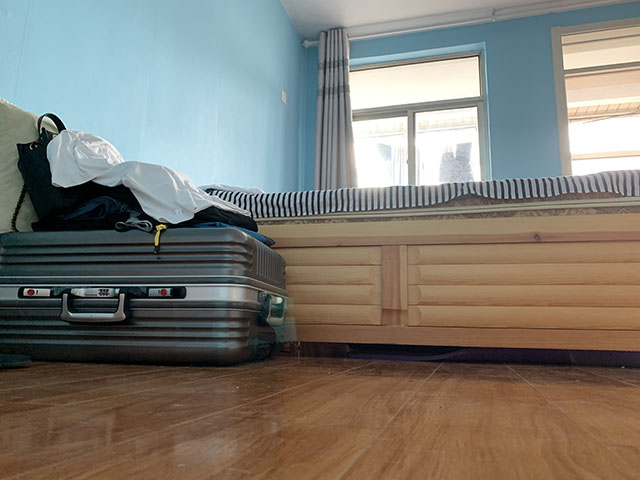bed: (203, 169, 640, 361)
